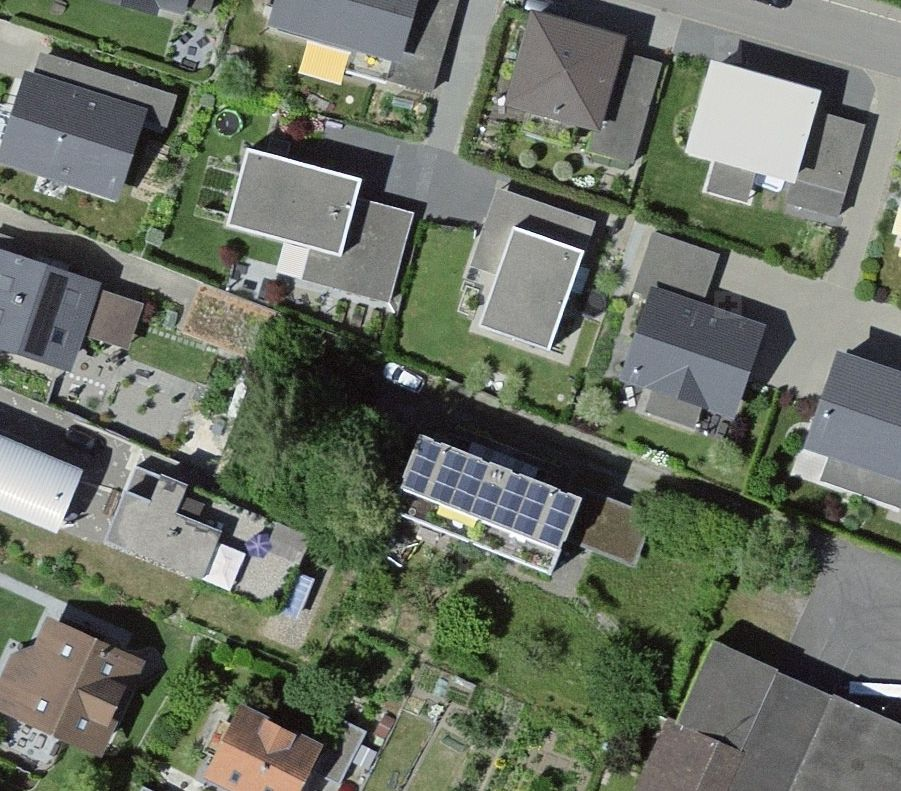solar: (401, 436, 578, 547), (19, 263, 72, 363)
